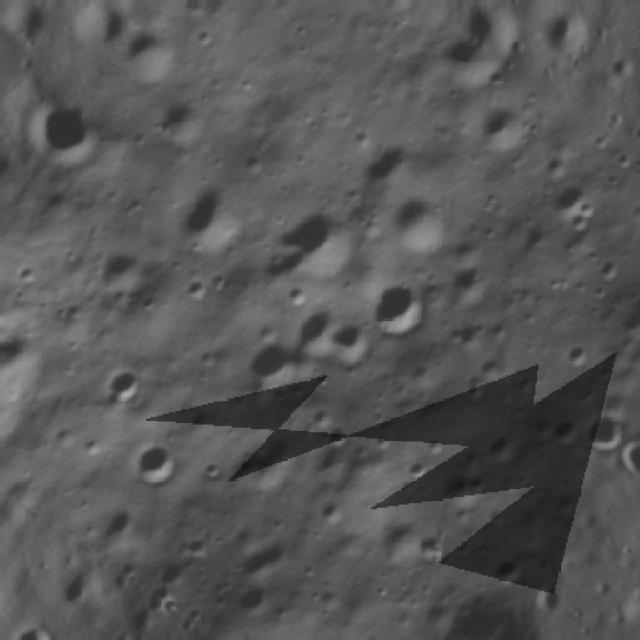crater: (262, 193, 368, 302), (374, 177, 464, 266), (166, 168, 252, 260), (346, 116, 434, 204), (359, 264, 441, 345), (232, 322, 314, 402), (0, 302, 62, 406), (113, 11, 192, 89), (421, 20, 497, 91), (86, 228, 160, 300), (368, 505, 440, 577), (122, 430, 192, 499), (470, 89, 539, 157), (151, 86, 218, 156), (231, 518, 297, 588), (282, 292, 348, 360), (318, 308, 379, 372), (542, 168, 602, 230), (578, 401, 634, 461), (228, 568, 284, 626), (445, 252, 497, 306), (480, 418, 531, 468), (408, 518, 459, 568), (102, 359, 152, 408), (546, 406, 592, 451), (560, 329, 605, 373), (486, 546, 528, 589), (173, 265, 216, 307), (312, 491, 352, 531), (177, 524, 217, 564), (592, 247, 630, 285), (320, 413, 358, 450), (134, 284, 171, 322), (302, 396, 340, 432), (401, 452, 433, 486), (198, 452, 228, 486), (634, 249, 640, 346)
